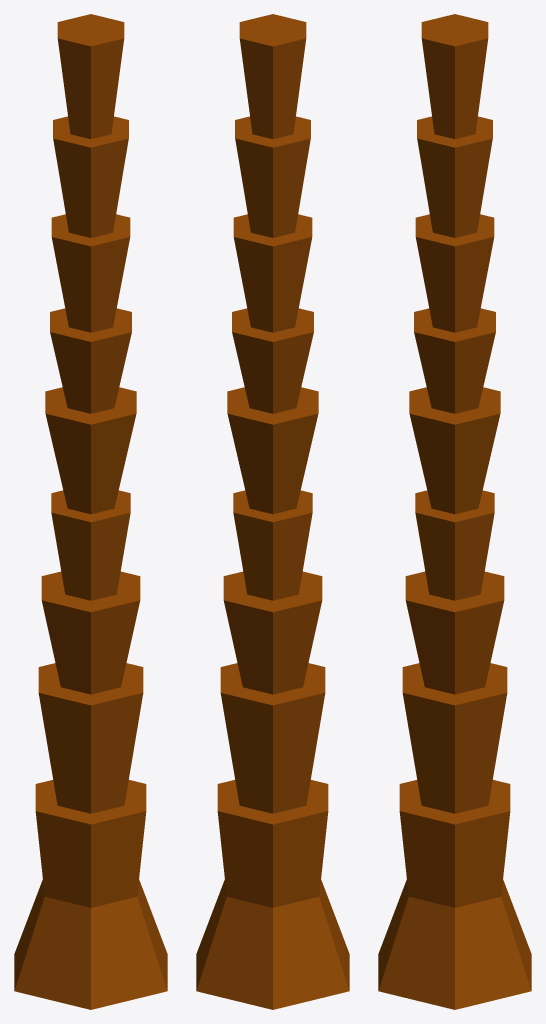
The model's file is Vegetation_Modular_New_Tree_Trunk_Palm_01.FBX.
3 views of the same model, side by side, from view 1: azimuth 30°, elevation 25°; view 2: azimuth 150°, elevation 25°; view 3: azimuth 270°, elevation 25° (orthographic).
Visible parts, largest first — view 1: Vegetation_Modular_New_Tree_Trunk_Palm_01; view 2: Vegetation_Modular_New_Tree_Trunk_Palm_01; view 3: Vegetation_Modular_New_Tree_Trunk_Palm_01.
Boxes of the visible parts, x1=… form: Vegetation_Modular_New_Tree_Trunk_Palm_01: x1=14, y1=14, x2=167, y2=1009; Vegetation_Modular_New_Tree_Trunk_Palm_01: x1=196, y1=14, x2=349, y2=1009; Vegetation_Modular_New_Tree_Trunk_Palm_01: x1=378, y1=14, x2=531, y2=1009.
Bounding box in the file's own units: 595 × 3499 × 515.
